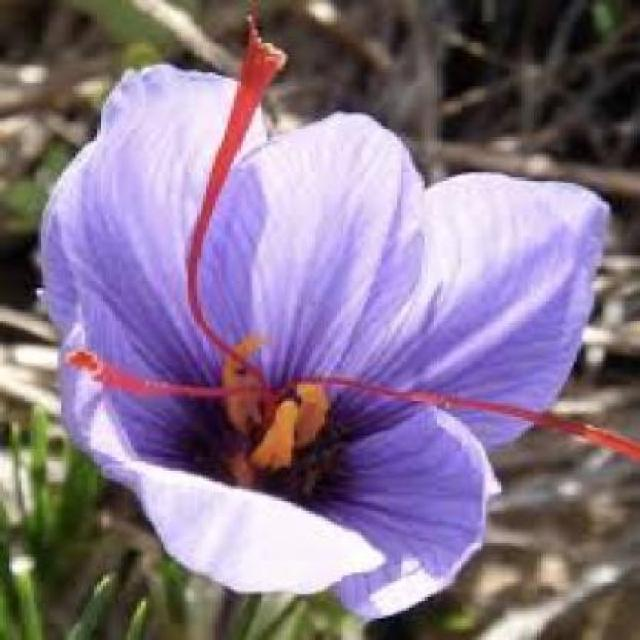Flower: (36, 54, 593, 617)
stigma: (183, 10, 289, 390), (298, 378, 640, 460), (62, 343, 265, 403)
